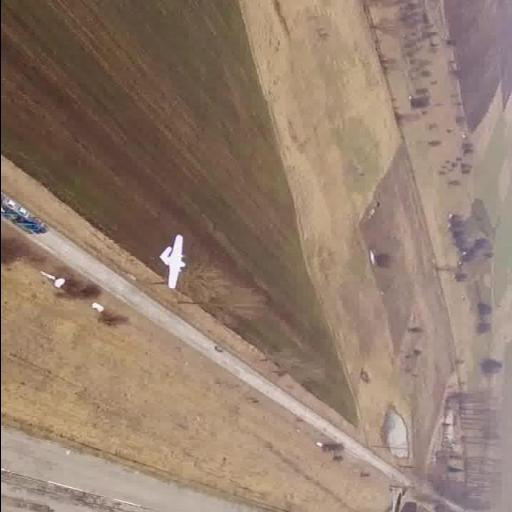uav: (144, 234, 194, 290)
